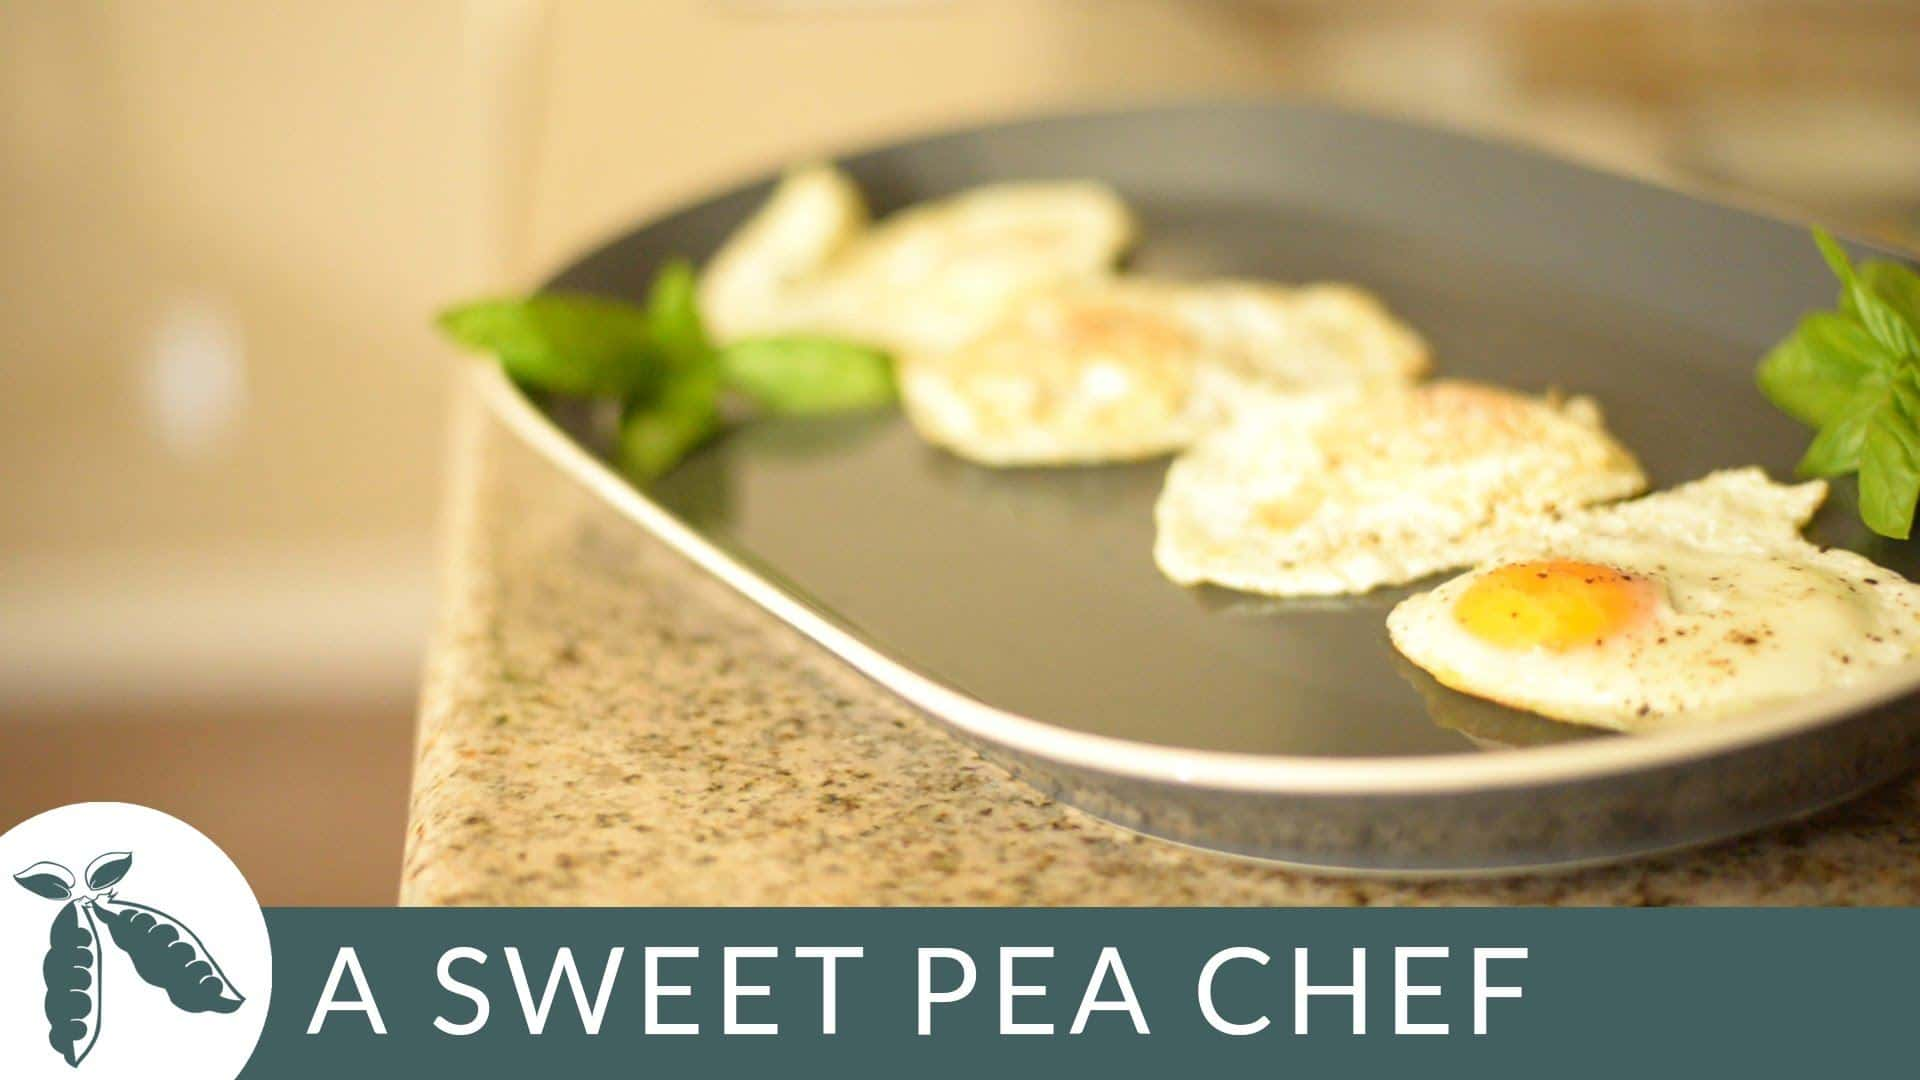fried egg: (1394, 479, 1887, 731), (1187, 389, 1625, 597), (924, 280, 1370, 469)
